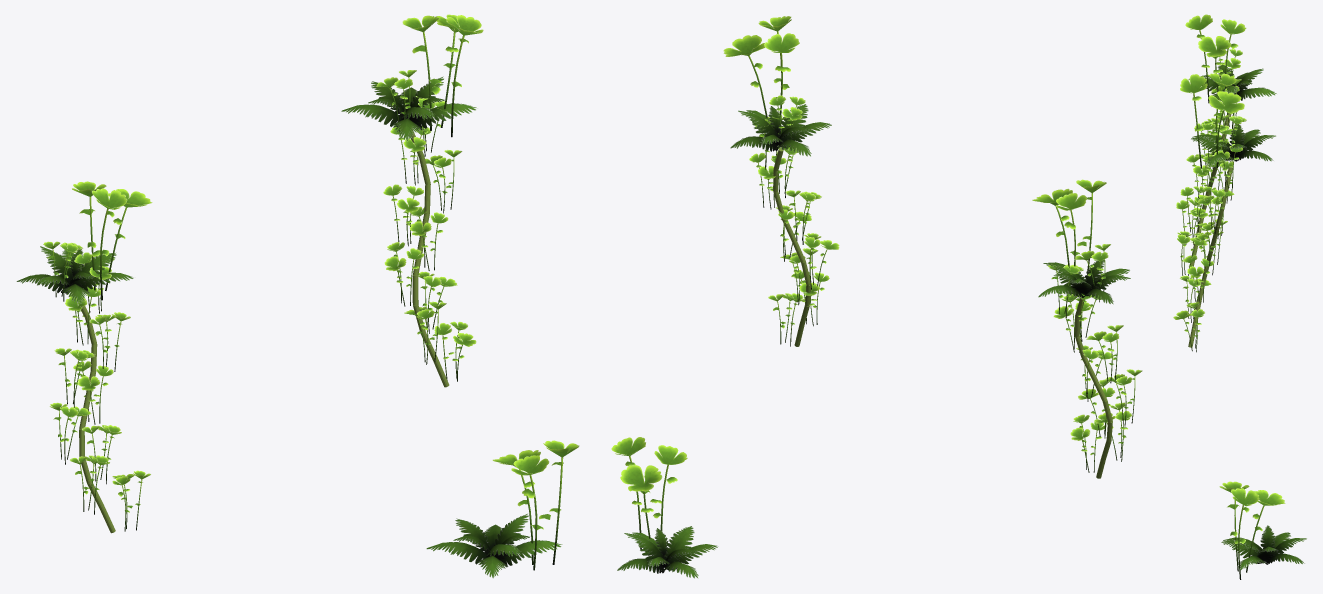
Rendered from Broken_Stone_Arch_Greenery.glb.
The picture shows the model from 3 angles, left to right: view 1: azimuth 30°, elevation 25°; view 2: azimuth 150°, elevation 25°; view 3: azimuth 270°, elevation 25°; orthographic projection. The views are drawn at different scales.
Visible parts, largest first — view 1: Patch_01, Patch_00, Patch_02; view 2: Patch_01, Patch_00, Patch_02; view 3: Patch_01, Patch_00, Patch_02.
Part boxes in pixels (x1,y1,x2,y2): Patch_01: (341,14,483,387); Patch_00: (16,181,152,533); Patch_02: (426,440,579,578); Patch_01: (723,16,839,346); Patch_00: (1032,179,1142,478); Patch_02: (611,437,718,578); Patch_01: (1173,73,1275,352); Patch_00: (1176,14,1276,275); Patch_02: (1219,481,1306,579).
Size of the model in its own units: 3.19 by 3.26 by 0.8866.
3 materials, 2 textured.
